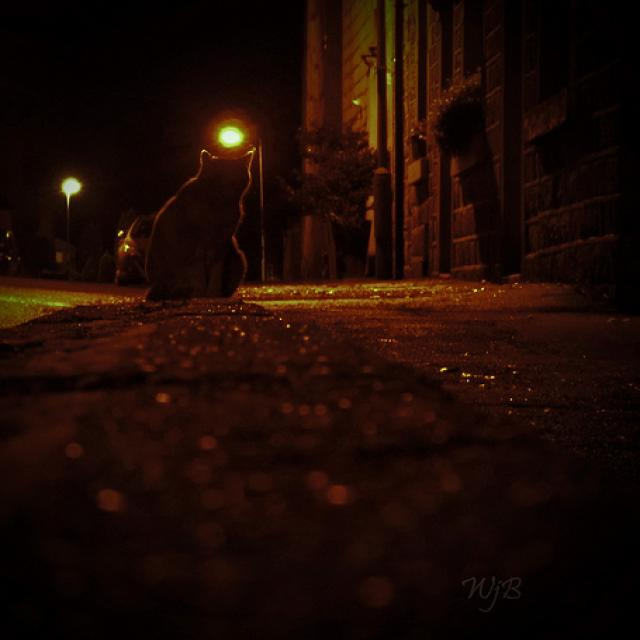Cat: (134, 130, 311, 318)
